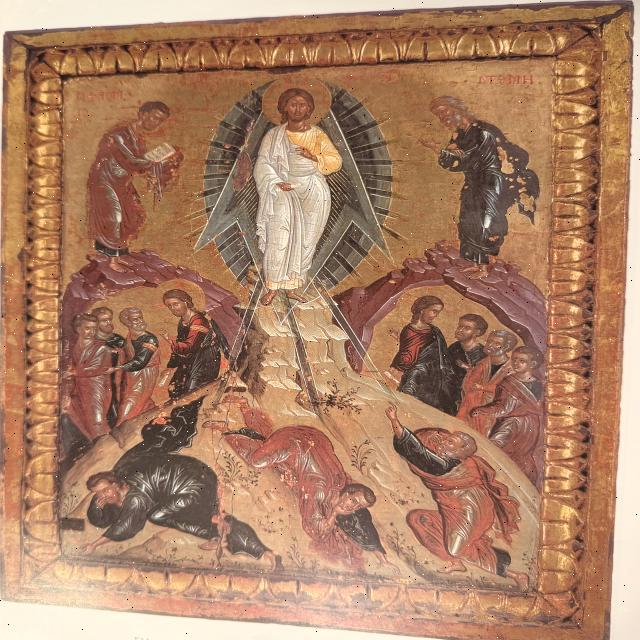aura: (260, 72, 334, 134)
christ_pantocrator: (184, 71, 404, 308)
scroll: (141, 140, 179, 168)
